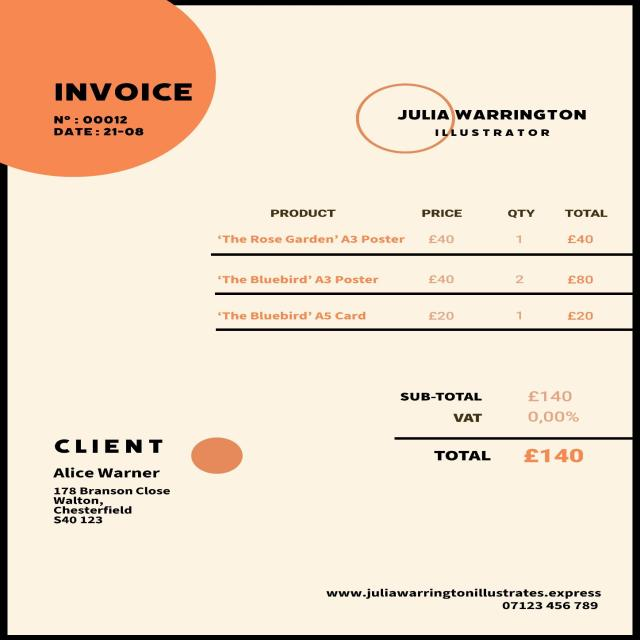paragraph: (373, 375, 629, 470), (333, 74, 608, 162), (34, 431, 178, 536), (313, 577, 606, 619), (48, 77, 202, 104), (51, 127, 151, 144), (51, 110, 151, 124)
table: (193, 204, 629, 331)
